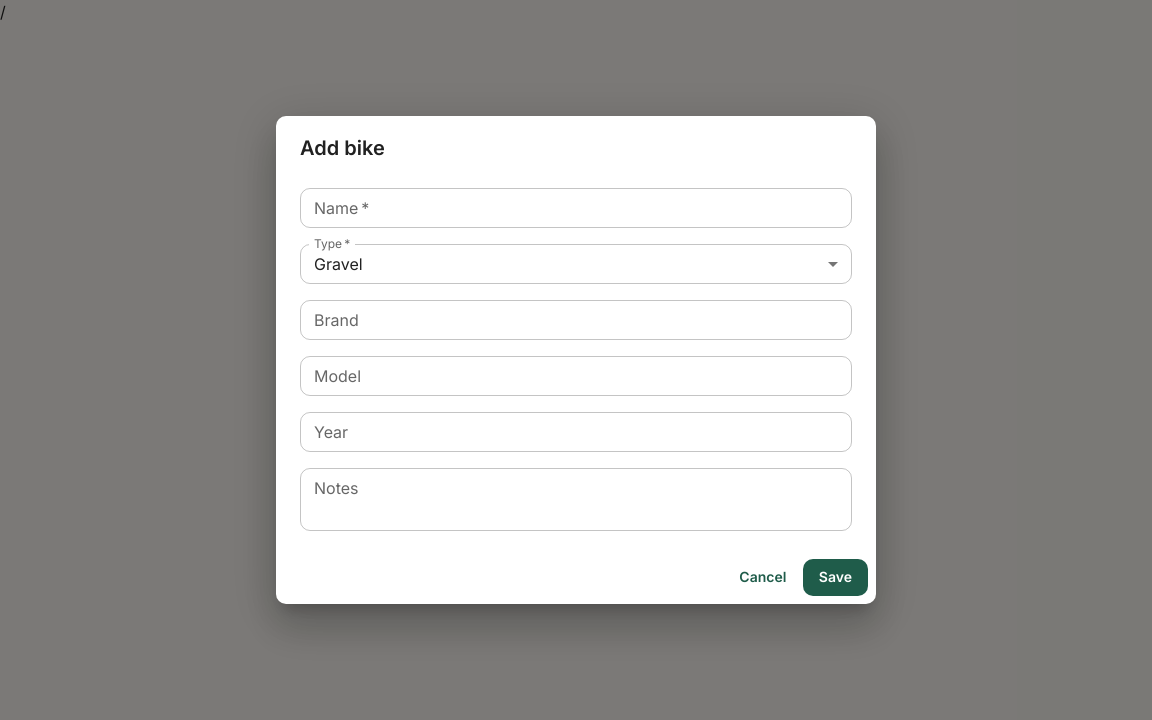
BikeFormDialog › creates a bike: sends the form, confirms with a message and reports the saved bike
Expected: the heading "Add bike" is shown, [300,136,385,160]
Type "Roadie" into the field labelled "Name *". click: (576, 208)
box: [300,188,852,228]
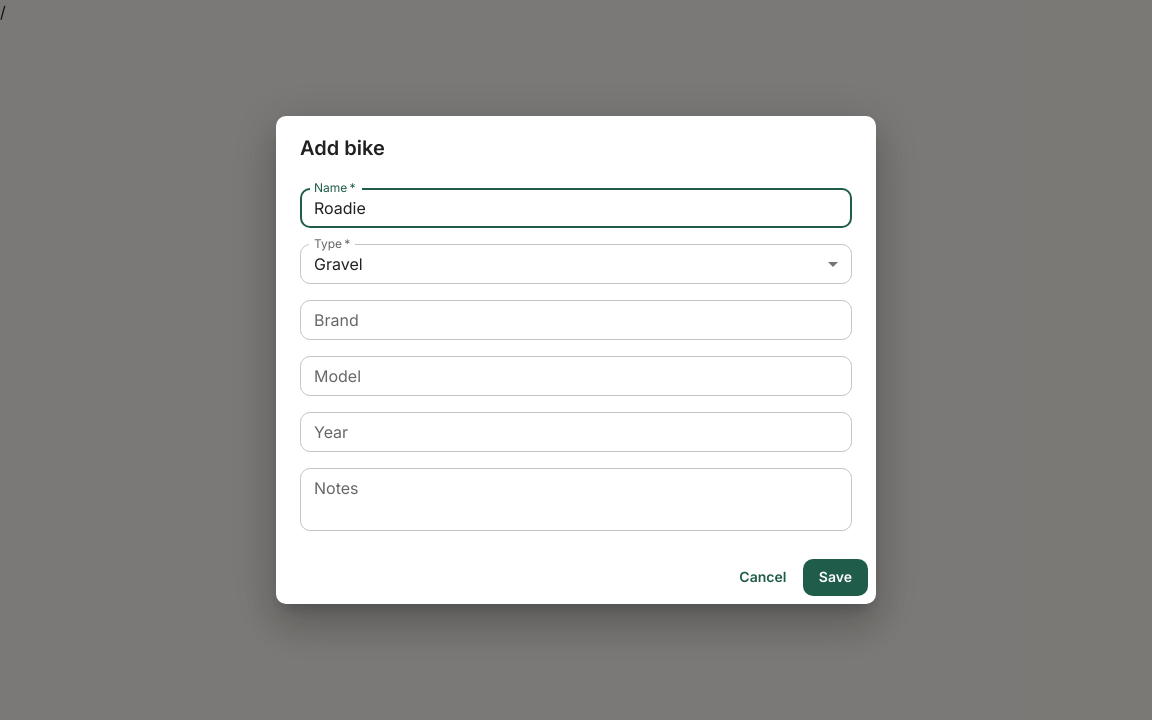
Click the dropdown named "Type". click: (338, 264)
box: [314,254,363,274]
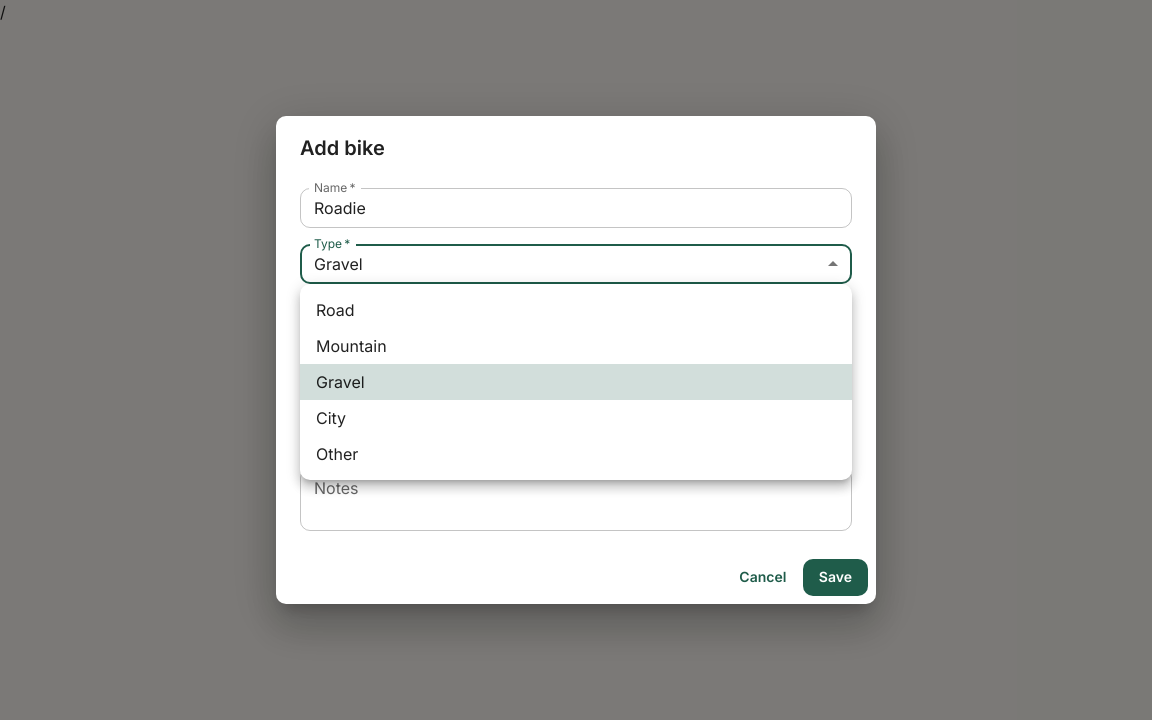
Click the option "Road". click: (335, 310)
box: [316,300,355,320]
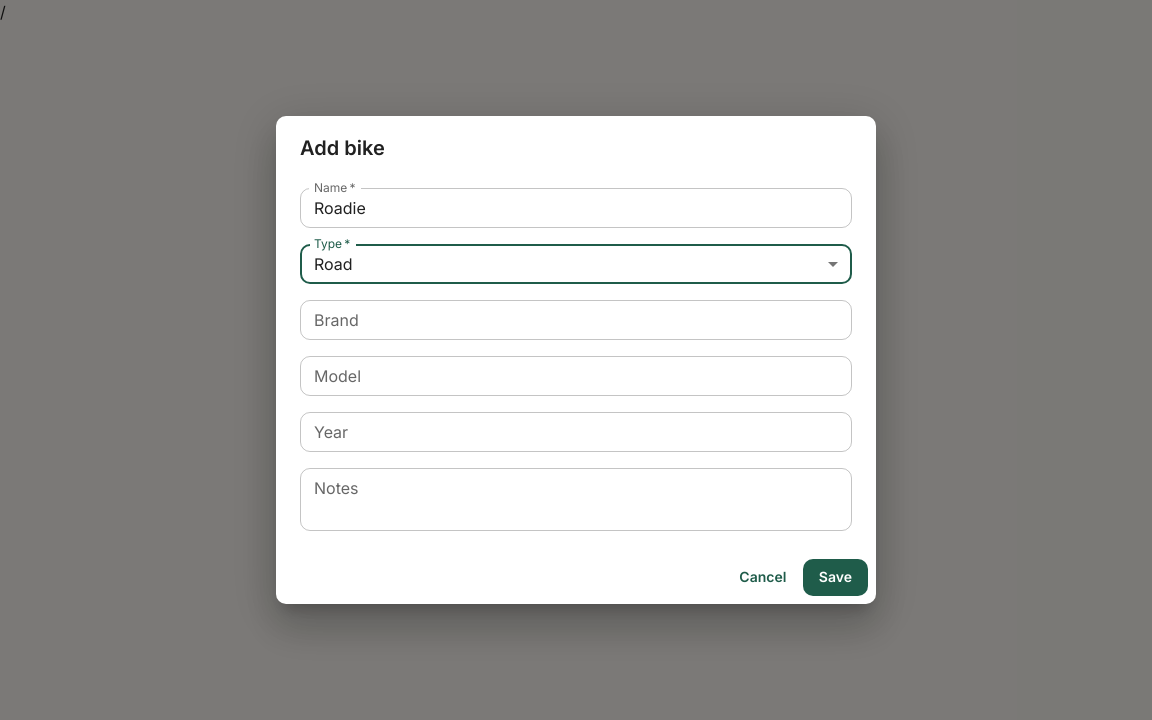
Type "2021" into the number field labelled "Year". click: (576, 432)
box: [300,412,852,452]
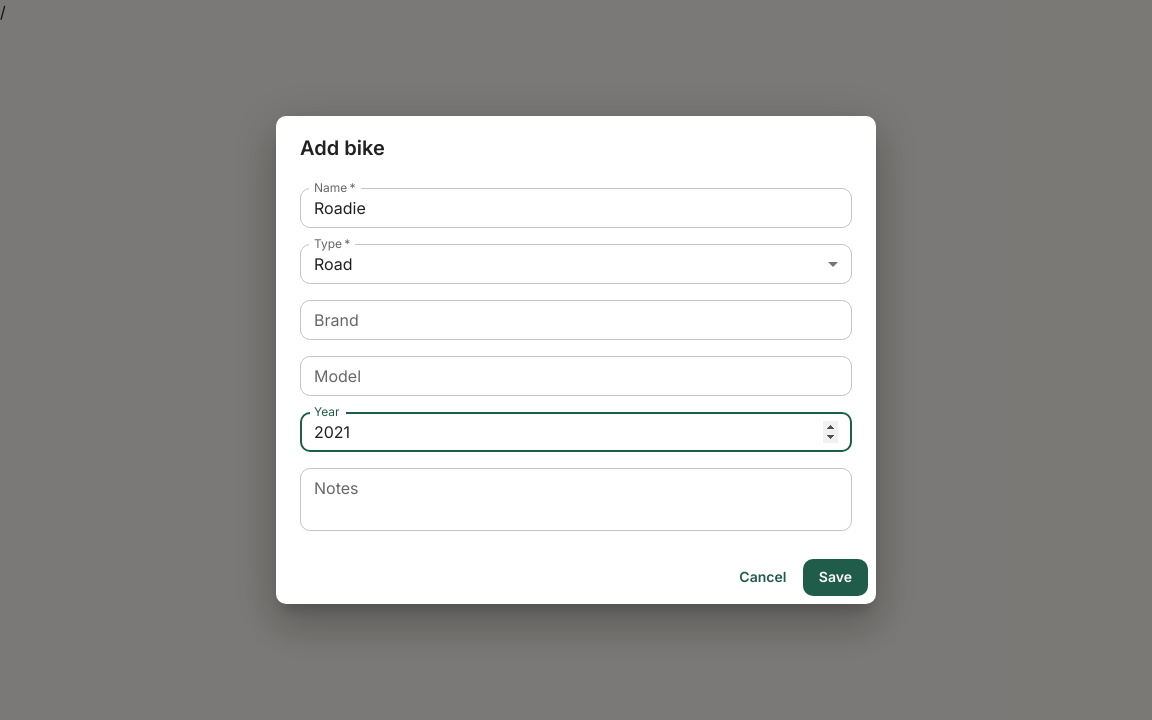
Click the button "Save". click: (835, 578)
box: [803,559,868,596]
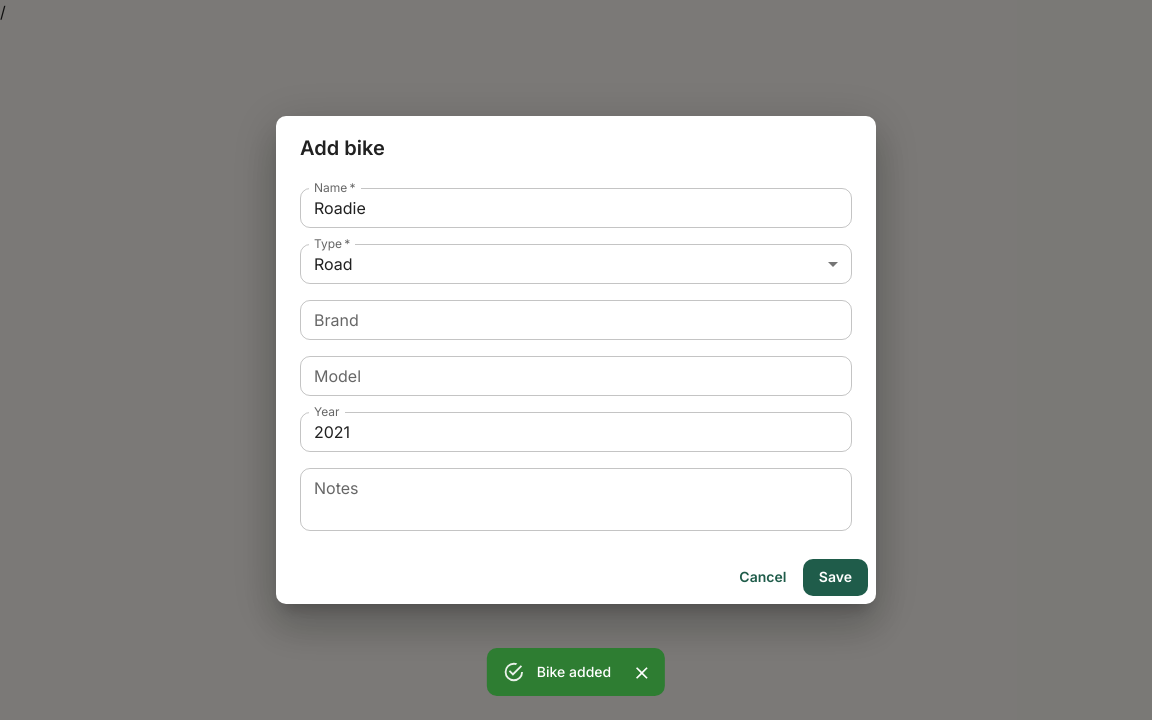
Now the text "Bike added" is shown, box [537,663,611,680]
